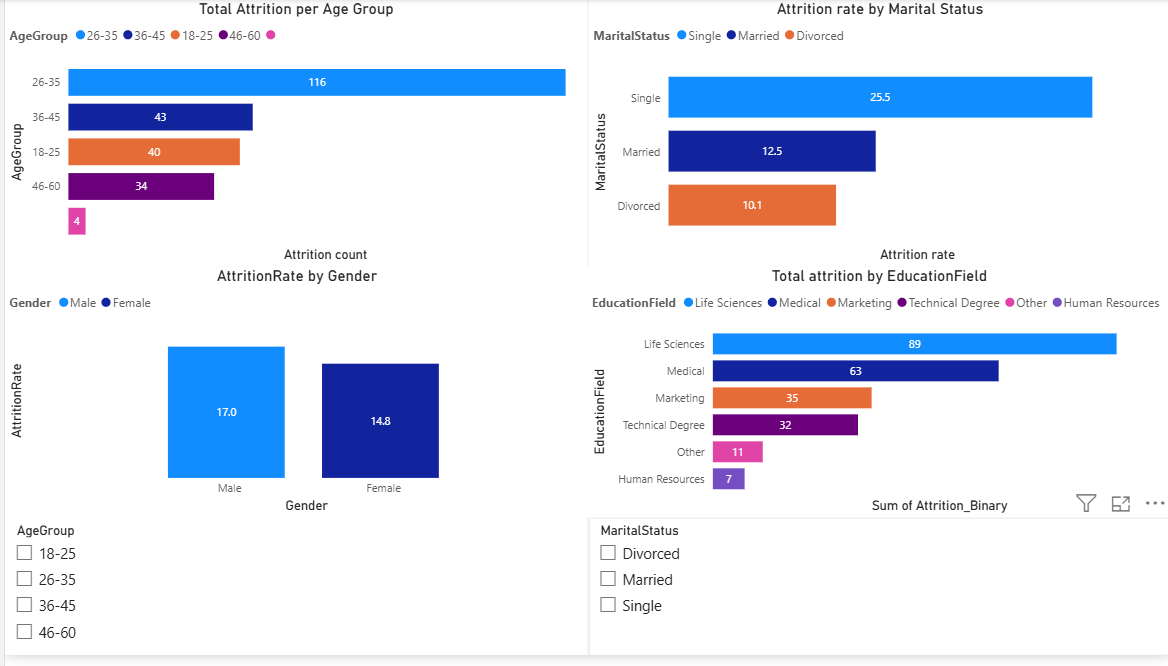

Layout of this report page (visuals, bound fields, positions):
{"tool":"powerbi","page":{"name":"Page 2","canvas":[1280,720],"ordinal":1},"visuals":[{"type":"barChart","title":"Total Attrition per Age Group","fields":{"Category":["hr_attrition_clean.AgeGroup"],"Y":["Sum(hr_attrition_clean.Attrition_Binary)"],"Series":["hr_attrition_clean.AgeGroup"]},"box":[0,0,639.5,293.7],"z":0},{"type":"barChart","title":"Attrition rate by Marital Status","fields":{"Category":["hr_attrition_clean.MaritalStatus"],"Y":["hr_attrition_clean.AttritionRate"],"Series":["hr_attrition_clean.MaritalStatus"]},"box":[640.8,0,639.5,293.7],"z":1000},{"type":"columnChart","title":"AttritionRate by Gender ","fields":{"Category":["hr_attrition_clean.Gender"],"Y":["hr_attrition_clean.AttritionRate"],"Series":["hr_attrition_clean.Gender"]},"box":[0,293.7,640.8,275.8],"z":2000},{"type":"barChart","title":"Total attrition  by EducationField","fields":{"Category":["hr_attrition_clean.EducationField"],"Y":["Sum(hr_attrition_clean.Attrition_Binary)"],"Series":["hr_attrition_clean.EducationField"]},"box":[639.5,293.7,640.8,275.8],"z":3000},{"type":"slicer","fields":{"Values":["hr_attrition_clean.AgeGroup"]},"box":[0,570,639,150],"z":4000},{"type":"slicer","fields":{"Values":["hr_attrition_clean.MaritalStatus"]},"box":[640.8,569.5,639.5,150.9],"z":5000}]}

Visuals, with their boxes in screenshot pixels (x1, y1, x2, y2), scaled from the page's 1280x720 canvas onto the 1168x666 screenshot:
"Total Attrition per Age Group" barChart: locate(0, 0, 584, 272)
"Attrition rate by Marital Status" barChart: locate(585, 0, 1167, 272)
"AttritionRate by Gender " columnChart: locate(0, 272, 585, 527)
"Total attrition  by EducationField" barChart: locate(584, 272, 1167, 527)
slicer - hr_attrition_clean.AgeGroup: locate(0, 527, 583, 665)
slicer - hr_attrition_clean.MaritalStatus: locate(585, 527, 1167, 665)
